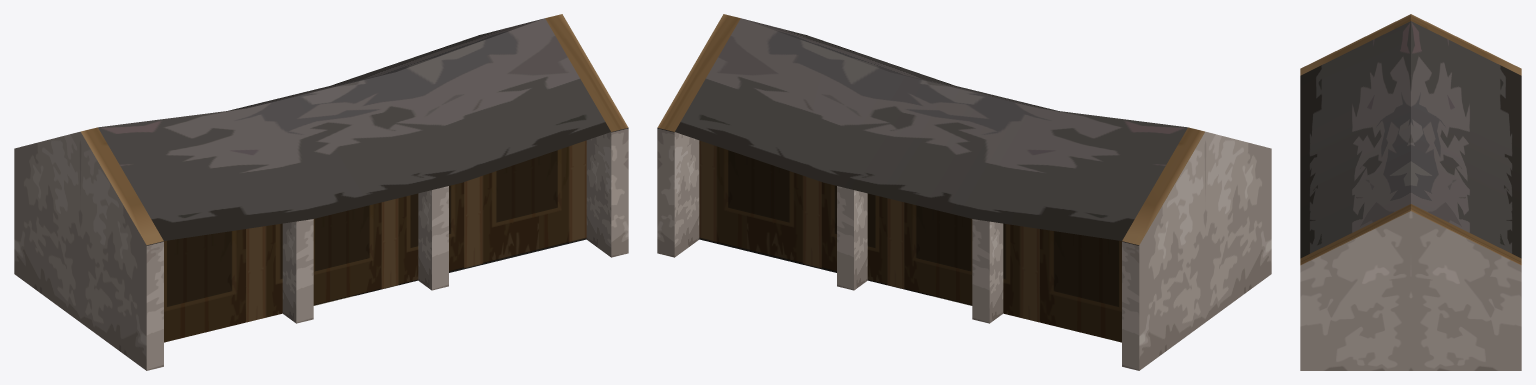
Rendered from SM_Building_Rural_04.fbx.
The picture shows the model from 3 angles, left to right: view 1: azimuth 30°, elevation 25°; view 2: azimuth 150°, elevation 25°; view 3: azimuth 270°, elevation 25°; orthographic projection. The views are drawn at different scales.
Parts seen in each view (by area): view 1: SM_Building_Rural_04; view 2: SM_Building_Rural_04; view 3: SM_Building_Rural_04.
Part boxes in pixels (x1,y1,x2,y2): SM_Building_Rural_04: (14,14,628,370); SM_Building_Rural_04: (657,14,1271,370); SM_Building_Rural_04: (1300,14,1521,370).
Bounding box in the file's own units: 14.22 × 5.39 × 6.76.
